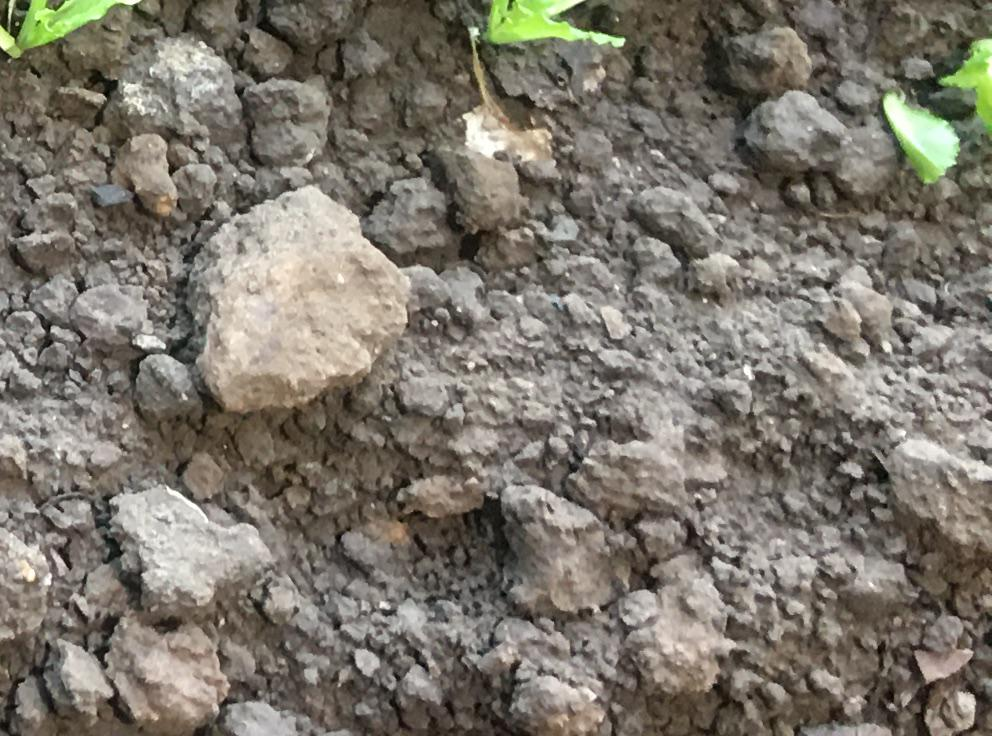block: (189, 188, 415, 413), (98, 485, 277, 614), (100, 36, 247, 159), (493, 478, 615, 622), (100, 617, 225, 729), (883, 436, 992, 558), (747, 86, 848, 188)
